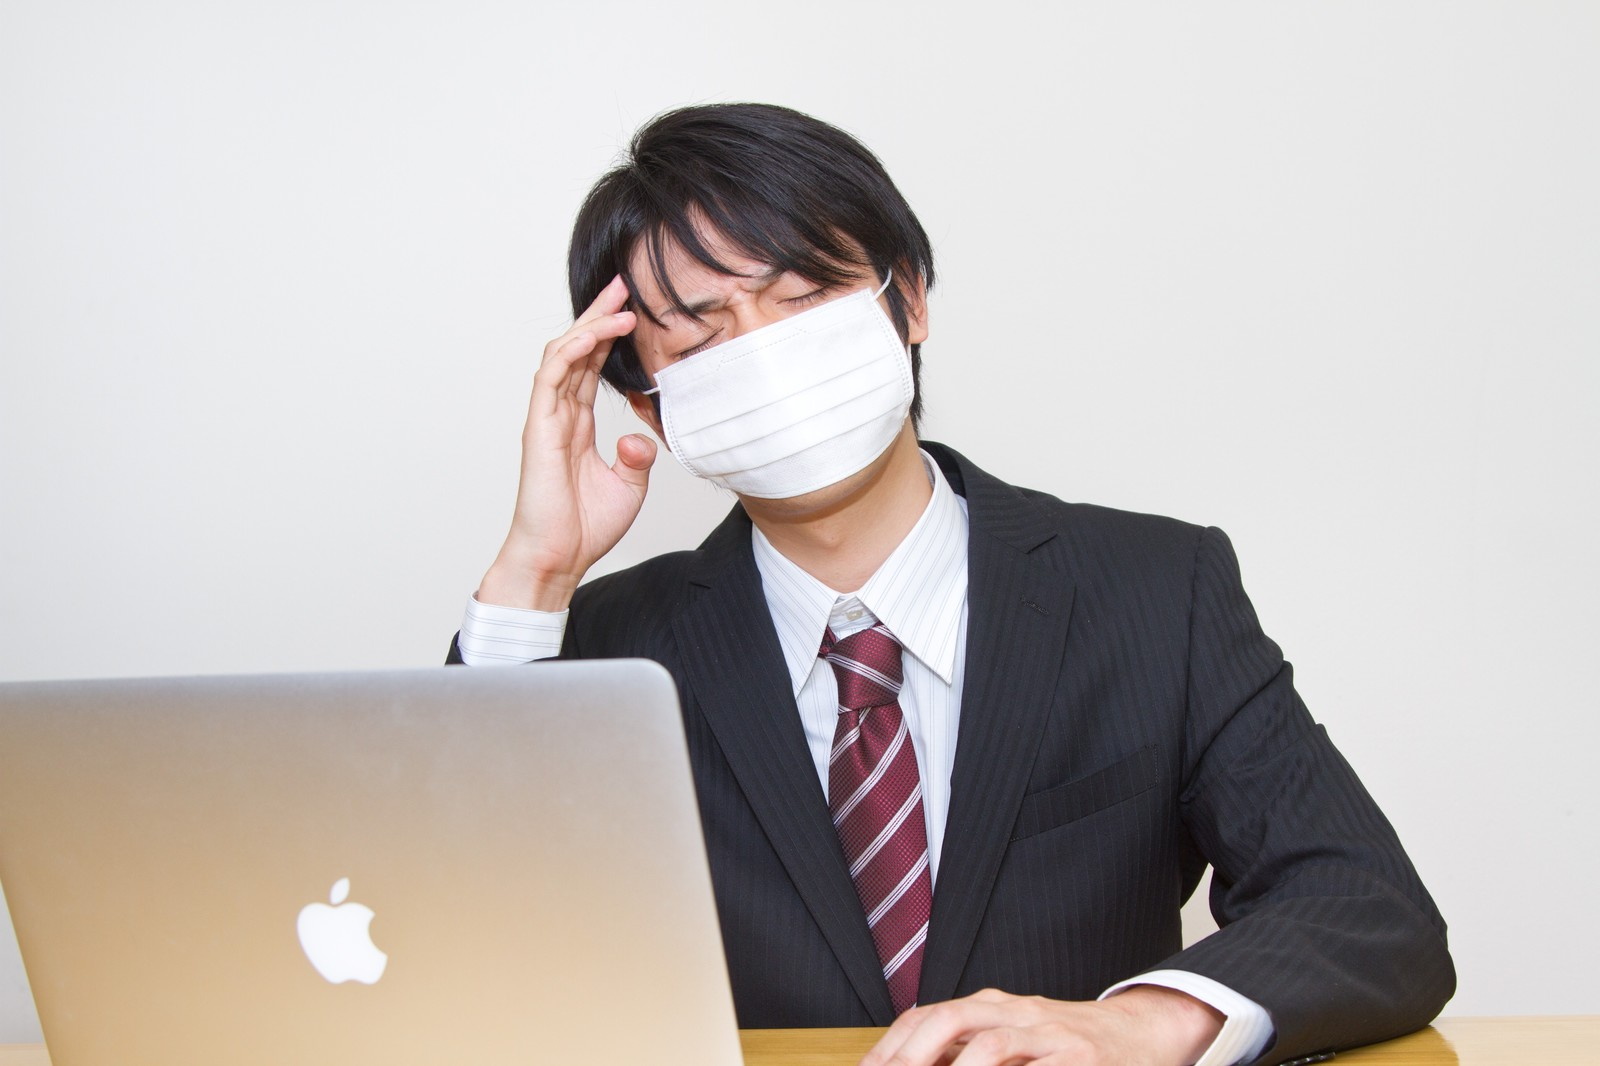mask: (657, 344, 915, 478)
